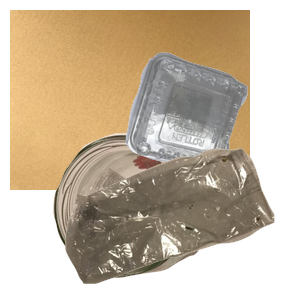cardboard: (10, 10, 250, 190)
glass: (50, 131, 252, 300)
plastic: (123, 50, 300, 214)
trash: (63, 145, 300, 300)
